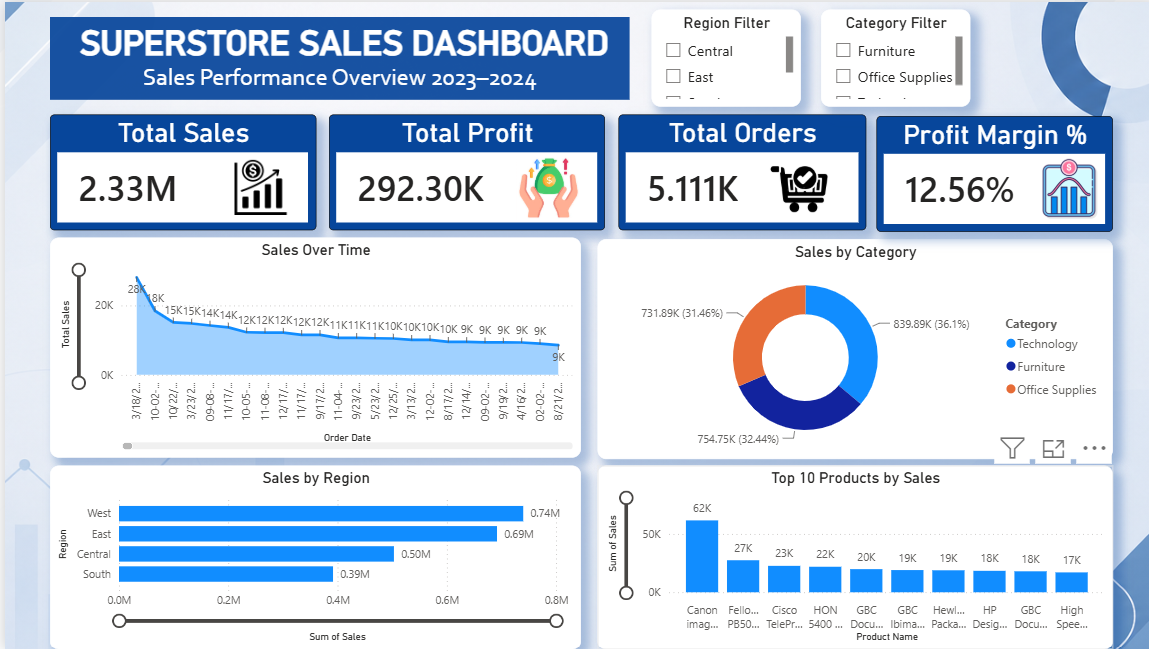

Layout of this report page (visuals, bound fields, positions):
{"tool":"powerbi","page":{"name":"Page 1","canvas":[1280,720],"ordinal":0},"visuals":[{"type":"cardVisual","title":"Total Sales","fields":{"Data":["Sum(samplesuperstore.Sales)"]},"box":[49.3,125.7,295.9,128.8],"z":0},{"type":"textbox","box":[50,16,644,92],"z":1000},{"type":"cardVisual","title":"Total Profit","fields":{"Data":["Sum(samplesuperstore.Profit)"]},"box":[359.5,125.7,307,128.8],"z":2000},{"type":"cardVisual","title":"Total Orders","fields":{"Data":["Count(samplesuperstore.Order ID)"]},"box":[682.4,125.7,275.2,128.8],"z":3000},{"type":"lineChart","title":"Sales Over Time","fields":{"Category":["samplesuperstore.Order Date"],"Y":["Sum(samplesuperstore.Sales)"]},"box":[49.3,260.9,590.1,245],"z":4000},{"type":"donutChart","title":"Sales by Category","fields":{"Category":["samplesuperstore.Category"],"Y":["Sum(samplesuperstore.Sales)"]},"box":[658.5,264,572.6,245],"z":5000},{"type":"clusteredBarChart","title":"Sales by Region","fields":{"Category":["samplesuperstore.Region"],"Y":["Sum(samplesuperstore.Sales)"]},"box":[49.3,515.4,590.1,205.2],"z":6000},{"type":"columnChart","title":"Top 10 Products by Sales","fields":{"Category":["samplesuperstore.Product Name"],"Y":["Sum(samplesuperstore.Sales)"]},"box":[658.5,515.4,572.6,205.2],"z":7000},{"type":"slicer","title":"Region Filter","fields":{"Values":["samplesuperstore.Region"]},"box":[718,8,166,108],"z":8000},{"type":"slicer","title":"Category Filter","fields":{"Values":["samplesuperstore.Category"]},"box":[906,8,166,108],"z":9000},{"type":"image","box":[243.4,173.4,81.1,65.2],"z":10000},{"type":"image","box":[567.8,170.2,71.6,73.2],"z":11000},{"type":"image","box":[846.2,165.4,71.6,85.9],"z":12000},{"type":"cardVisual","title":"Profit Margin %","fields":{"Data":["samplesuperstore.Profit Margin %"]},"box":[968.7,127.2,262.5,128.8],"z":12001},{"type":"image","box":[1148.4,141.6,70,132],"z":12002}]}

Visuals, with their boxes in screenshot pixels (x1, y1, x2, y2), scaled from the page's 1280x720 canvas onto the 1149x649 screenshot:
"Total Sales" cardVisual: (44, 113, 310, 229)
textbox: (45, 14, 623, 97)
"Total Profit" cardVisual: (323, 113, 598, 229)
"Total Orders" cardVisual: (613, 113, 860, 229)
"Sales Over Time" lineChart: (44, 235, 574, 456)
"Sales by Category" donutChart: (591, 238, 1105, 459)
"Sales by Region" clusteredBarChart: (44, 465, 574, 648)
"Top 10 Products by Sales" columnChart: (591, 465, 1105, 648)
"Region Filter" slicer: (645, 7, 794, 105)
"Category Filter" slicer: (813, 7, 962, 105)
image: (218, 156, 291, 215)
image: (510, 153, 574, 219)
image: (760, 149, 824, 227)
"Profit Margin %" cardVisual: (870, 115, 1105, 231)
image: (1031, 128, 1094, 247)
